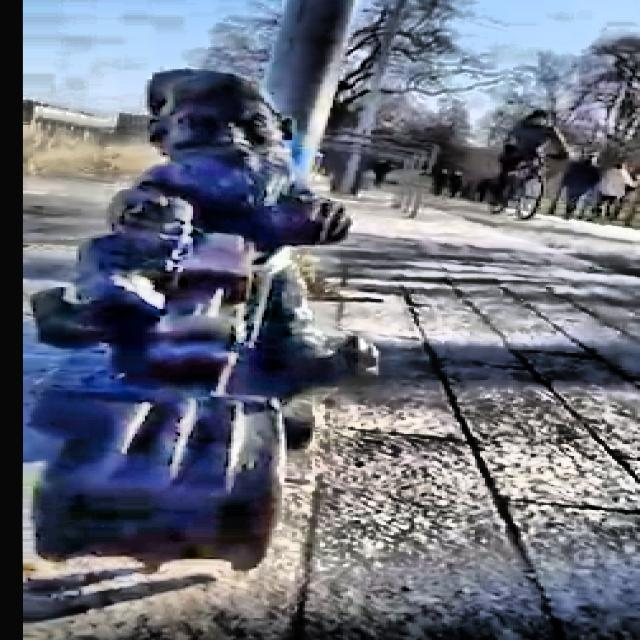Koparkus: (30, 70, 378, 568)
